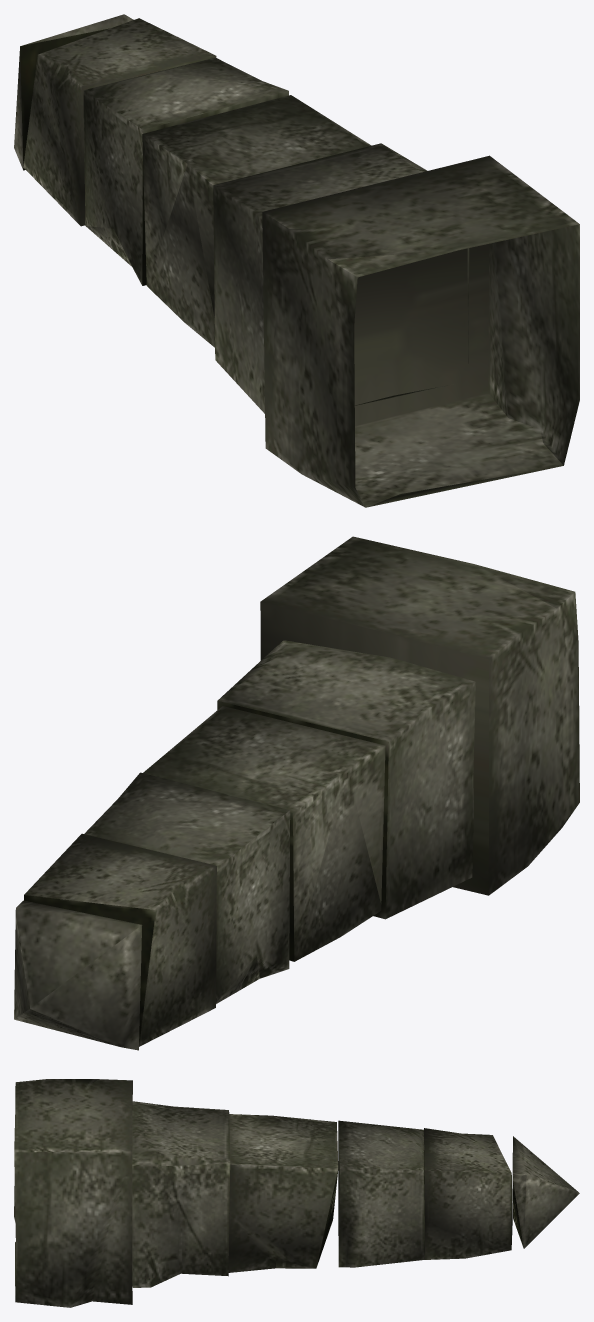
Rendered from obelisk.FBX.
3 views of the same model, one above another, from view 1: azimuth 30°, elevation 25°; view 2: azimuth 150°, elevation 25°; view 3: azimuth 270°, elevation 25° (orthographic). The views are drawn at different scales.
Parts seen in each view (by area): view 1: TI_Obelisk_LOD_02; view 2: TI_Obelisk_LOD_02; view 3: TI_Obelisk_LOD_02.
Boxes of the visible parts, x1,y1,x2,y2 form: TI_Obelisk_LOD_02: (14,14,579,507); TI_Obelisk_LOD_02: (14,536,579,1050); TI_Obelisk_LOD_02: (14,1079,579,1307).
Bounding box in the file's own units: 1 × 1 × 3.28.
Materials: 1 (1 with a texture image).
